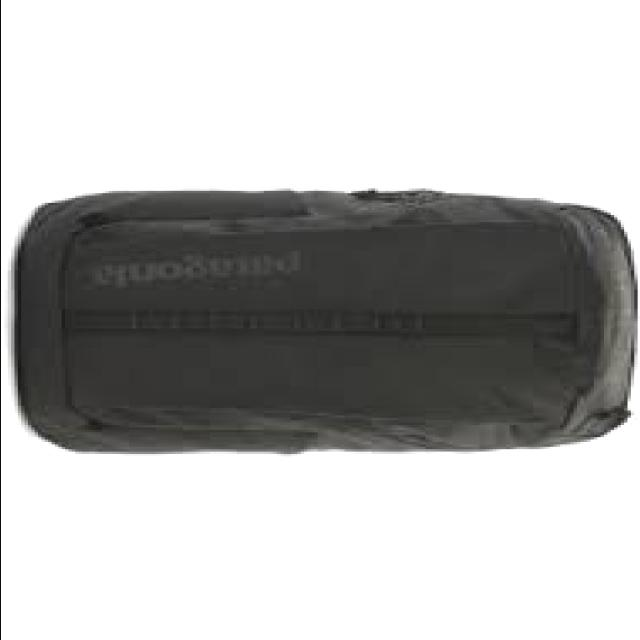backpack: (18, 187, 640, 455)
